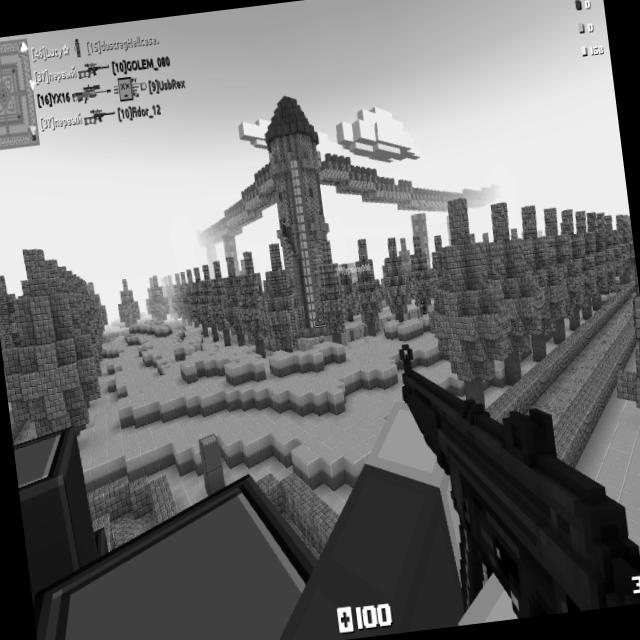enemy: (420, 299, 427, 314), (282, 219, 286, 236)
